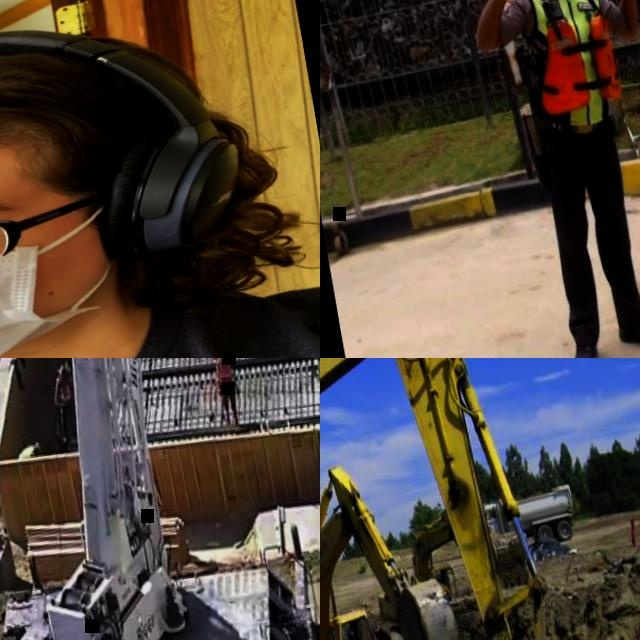Hardhat: (58, 364, 68, 376), (346, 628, 355, 636)
Mask: (0, 215, 134, 358)
NO-Hardhat: (0, 0, 197, 189)
NO-Mask: (348, 638, 354, 640)
NO-Safety Vest: (0, 273, 320, 358)
Person: (0, 0, 320, 358), (450, 0, 640, 358), (48, 363, 82, 446), (210, 358, 241, 425), (341, 626, 372, 640)
Safety Vest: (517, 0, 625, 127), (215, 358, 233, 382), (57, 376, 72, 401)
machinery: (0, 358, 320, 640), (320, 358, 598, 640), (320, 450, 485, 640), (479, 482, 580, 554)
